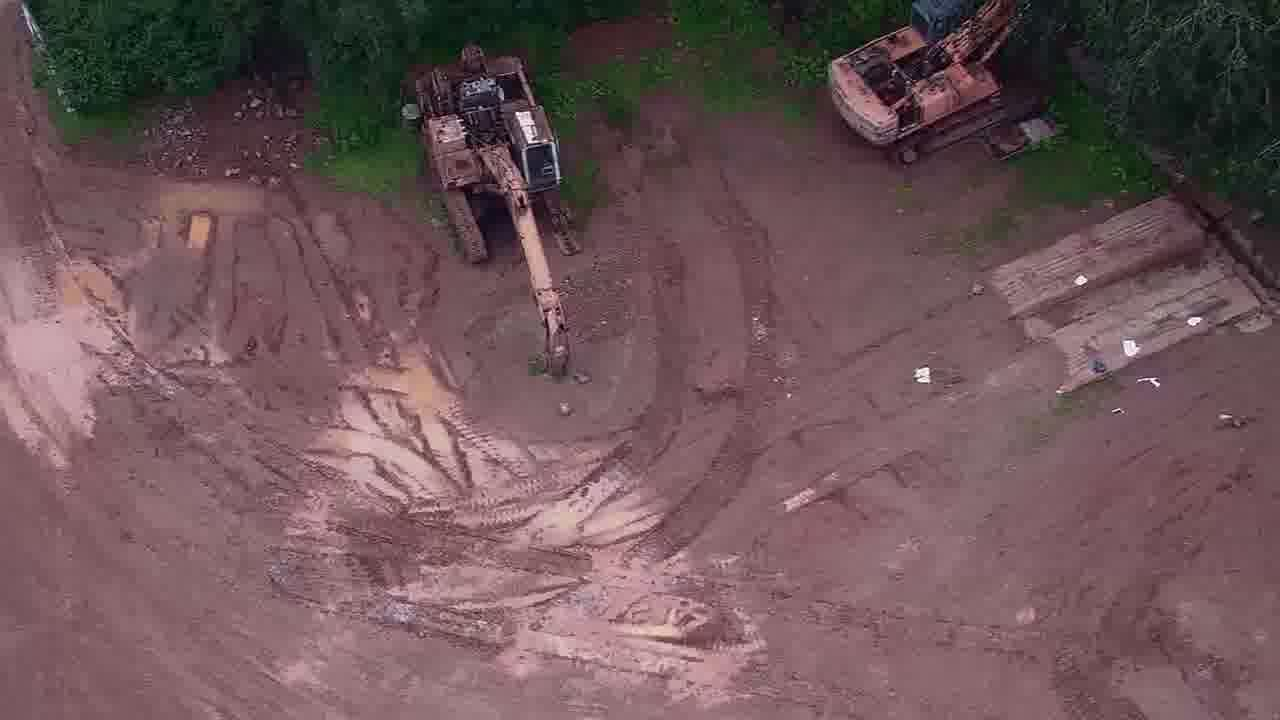HMV: (400, 33, 582, 380), (827, 1, 1027, 166)
